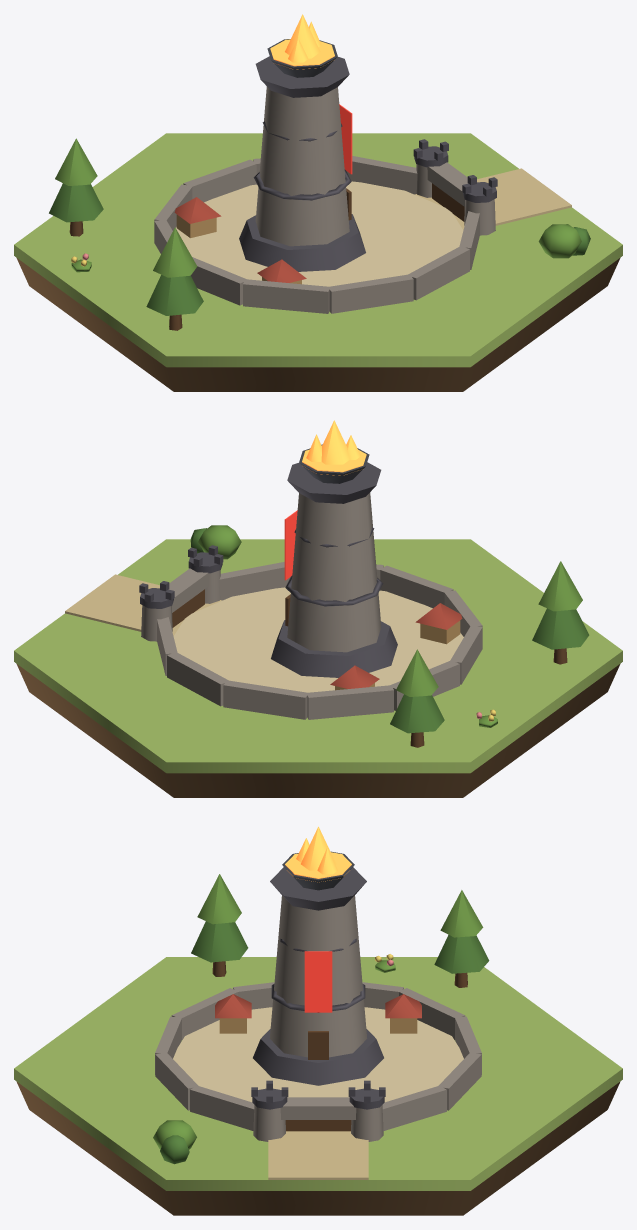
Rendered from tile_base_beacon.glb.
3 renders of one model, top to bottom at view 1: azimuth 30°, elevation 25°; view 2: azimuth 150°, elevation 25°; view 3: azimuth 270°, elevation 25°, orthographic.
Parts seen in each view (by area): view 1: ground, ground_soil, courtyard, tower_body, tower_foot, road, wall_6, wall_7, tower_top, deco_tree_3_crown, wall_8, wall_0 (+19 smaller); view 2: ground, ground_soil, courtyard, tower_body, tower_foot, road, wall_3, wall_2, tower_top, wall_1, deco_tree_3_crown, wall_9 (+20 smaller); view 3: ground, ground_soil, courtyard, tower_body, road, tower_foot, tower_top, wall_0, wall_9, tower_banner, deco_tree_3_crown, gate_arch (+22 smaller).
Boxes of the visible parts, box(x1,y1,x2,y2) form: ground: box(14, 133, 622, 367); ground_soil: box(16, 258, 620, 391); courtyard: box(176, 181, 463, 286); tower_body: box(255, 86, 349, 246); tower_foot: box(239, 214, 365, 271); road: box(415, 168, 571, 229); wall_6: box(243, 279, 329, 313); wall_7: box(328, 274, 413, 313); tower_top: box(255, 56, 349, 97); deco_tree_3_crown: box(146, 275, 203, 315); wall_8: box(408, 247, 469, 300); wall_0: box(346, 156, 417, 194); ground: box(14, 539, 622, 773); ground_soil: box(16, 664, 620, 797); courtyard: box(173, 587, 463, 692); tower_body: box(287, 492, 381, 652); tower_foot: box(271, 620, 397, 677); road: box(65, 574, 221, 635); wall_3: box(307, 685, 393, 719); wall_2: box(223, 680, 308, 719); tower_top: box(287, 462, 381, 503); wall_1: box(167, 653, 228, 706); deco_tree_3_crown: box(532, 608, 589, 649); wall_9: box(219, 562, 290, 600); ground: box(14, 957, 622, 1190); ground_soil: box(16, 1081, 620, 1215); courtyard: box(173, 1007, 463, 1102); tower_body: box(269, 895, 367, 1057); road: box(268, 1131, 368, 1179); tower_foot: box(253, 1029, 383, 1085); tower_top: box(270, 867, 366, 910); wall_0: box(382, 1086, 446, 1130); wall_9: box(190, 1086, 254, 1130); tower_banner: box(304, 951, 332, 1012); deco_tree_3_crown: box(191, 921, 248, 962); gate_arch: box(280, 1097, 356, 1119).
Bounding box in the file's own units: 1.73 × 1 × 2.
